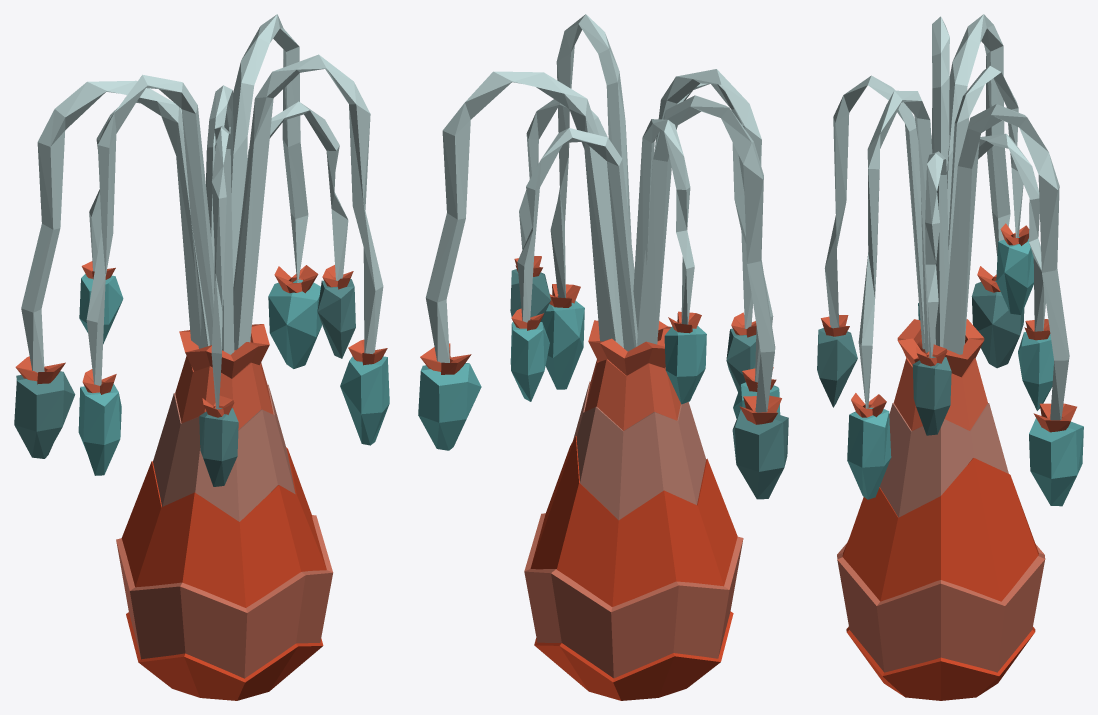
The model's file is TP_Plant01.fbx.
The picture shows the model from 3 angles, left to right: view 1: azimuth 30°, elevation 25°; view 2: azimuth 150°, elevation 25°; view 3: azimuth 270°, elevation 25°; orthographic projection.
Parts seen in each view (by area): view 1: TP_Plant01; view 2: TP_Plant01; view 3: TP_Plant01.
Boxes of the visible parts, x1,y1,x2,y2 form: TP_Plant01: [14, 14, 389, 700]; TP_Plant01: [418, 14, 788, 700]; TP_Plant01: [817, 14, 1083, 700].
Bounding box in the file's own units: 122 × 217 × 84.53.
Materials: 1 (1 with a texture image).
